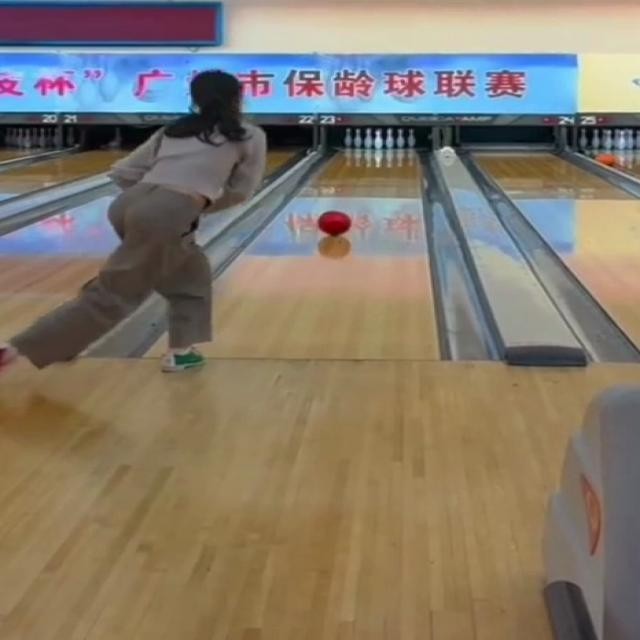alley: (213, 148, 435, 360)
balls: (317, 211, 350, 236)
bottle: (343, 127, 415, 153)
